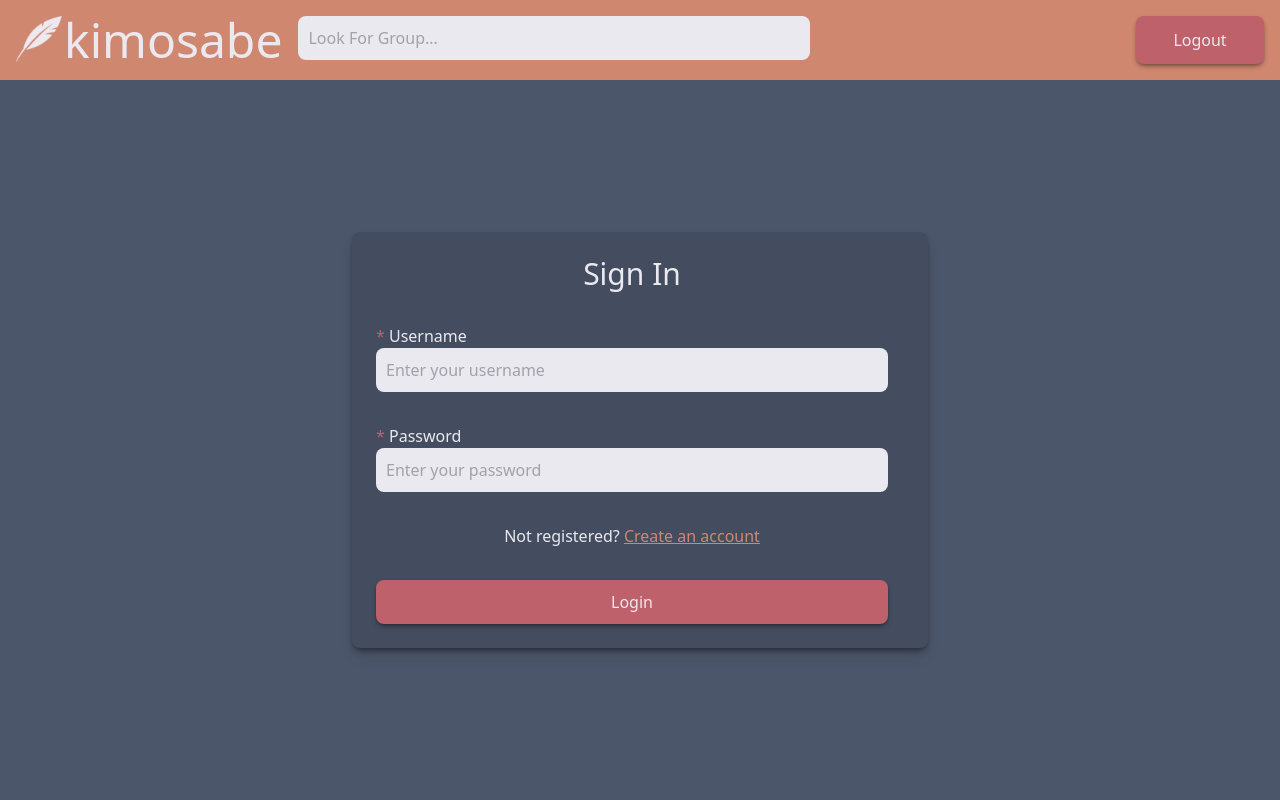
pages/login.js › when login button clicked › and login fails › then error should be set
This screenshot has width=1280, height=800.
Click the button with test id "login-submit-button" at [632, 602], box 376,580 -> 888,624
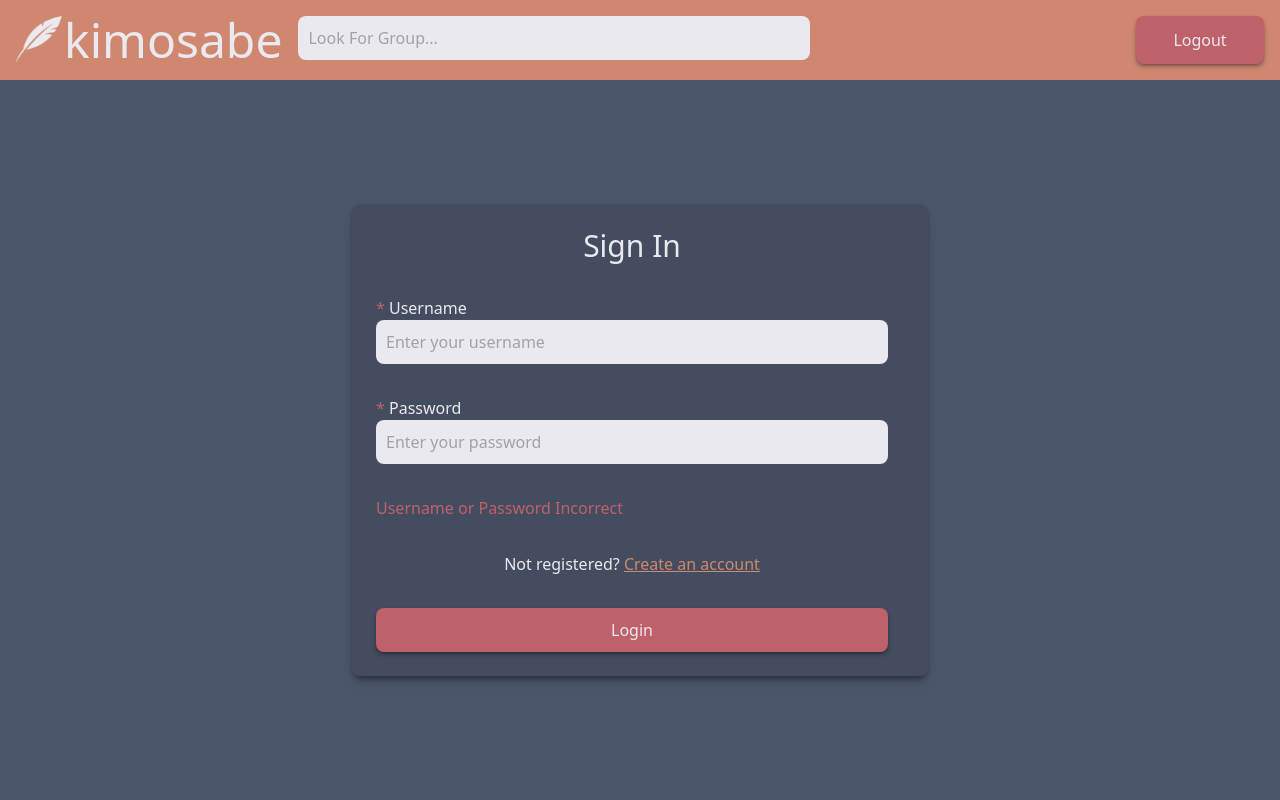
Now the text "Username or Password Incorrect" is shown, box 376,497 -> 623,519
